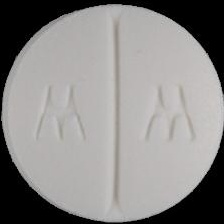76237-189: (0, 0, 224, 224)
